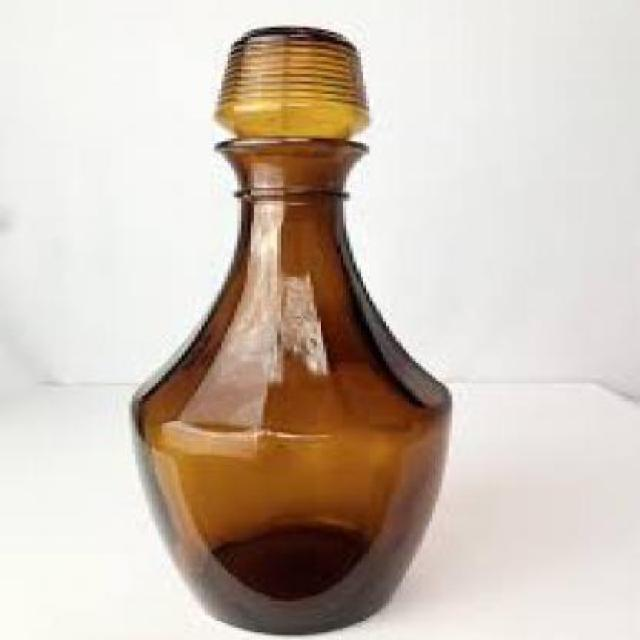kaca: (125, 25, 452, 637)
